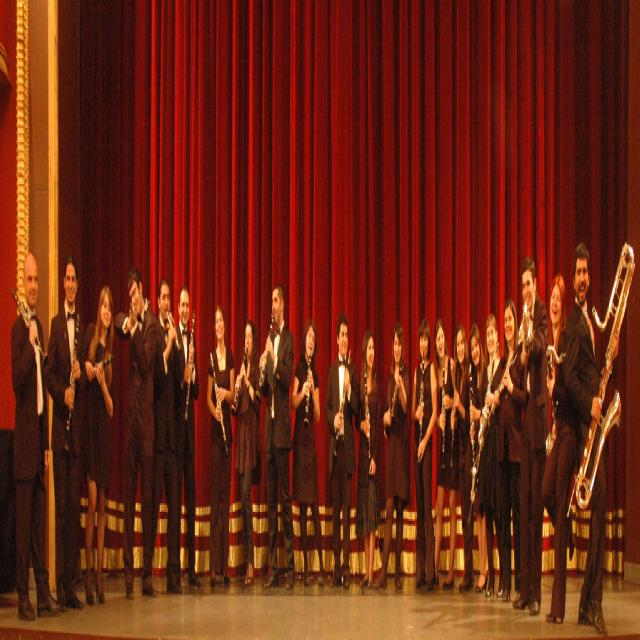clarinet: (10, 284, 50, 372), (62, 310, 80, 455), (332, 346, 353, 461), (209, 351, 230, 459), (254, 311, 276, 409), (183, 306, 197, 424), (384, 364, 404, 440), (468, 364, 478, 490), (230, 348, 248, 417), (85, 348, 118, 384), (450, 357, 460, 469), (303, 349, 313, 435), (364, 358, 372, 465), (418, 348, 425, 452), (441, 354, 446, 472)
saxophone: (546, 336, 568, 461)
